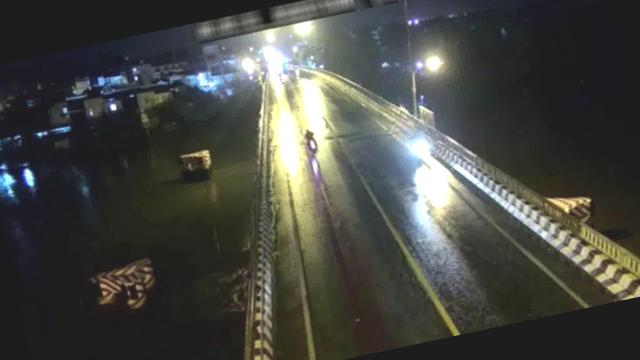Bike: (408, 131, 434, 158), (302, 125, 322, 155)
